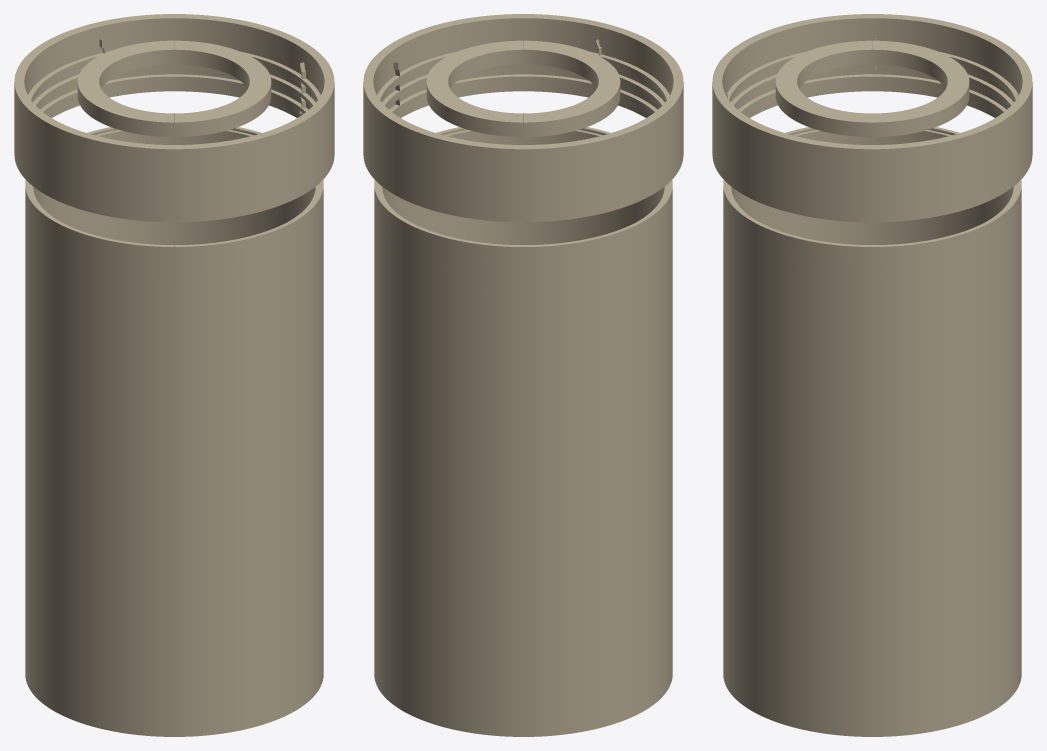
Rendered from threaded-tube.glb.
3 views of the same model, side by side, from view 1: azimuth 30°, elevation 25°; view 2: azimuth 150°, elevation 25°; view 3: azimuth 270°, elevation 25° (orthographic).
Parts seen in each view (by area): view 1: tube_body_threaded, cap_with_threads_and_ring; view 2: tube_body_threaded, cap_with_threads_and_ring; view 3: tube_body_threaded, cap_with_threads_and_ring.
Part boxes in pixels (left/top/right/bottom): tube_body_threaded: left=25, top=127, right=323, bottom=736; cap_with_threads_and_ring: left=14, top=14, right=334, bottom=222; tube_body_threaded: left=374, top=127, right=672, bottom=736; cap_with_threads_and_ring: left=363, top=14, right=683, bottom=222; tube_body_threaded: left=723, top=127, right=1021, bottom=736; cap_with_threads_and_ring: left=712, top=14, right=1032, bottom=222.
Bounding box in the file's own units: 0.119 × 0.243 × 0.119.
